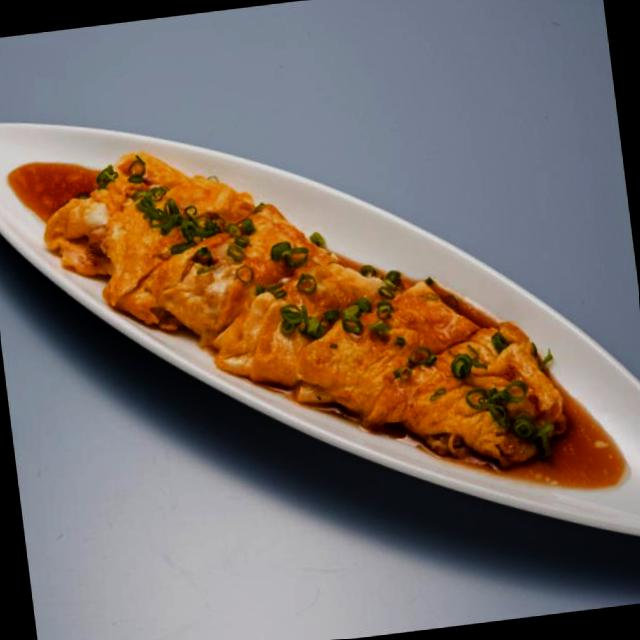Omelet: (36, 102, 584, 536)
